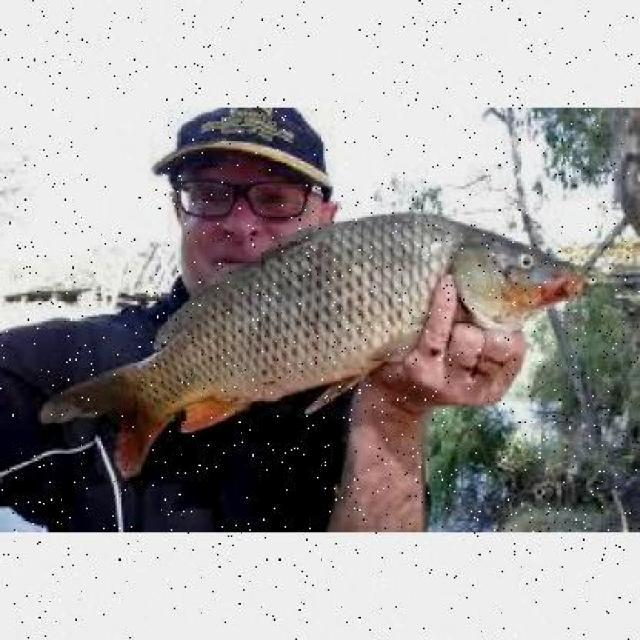ikan-mas: (75, 200, 583, 452)
